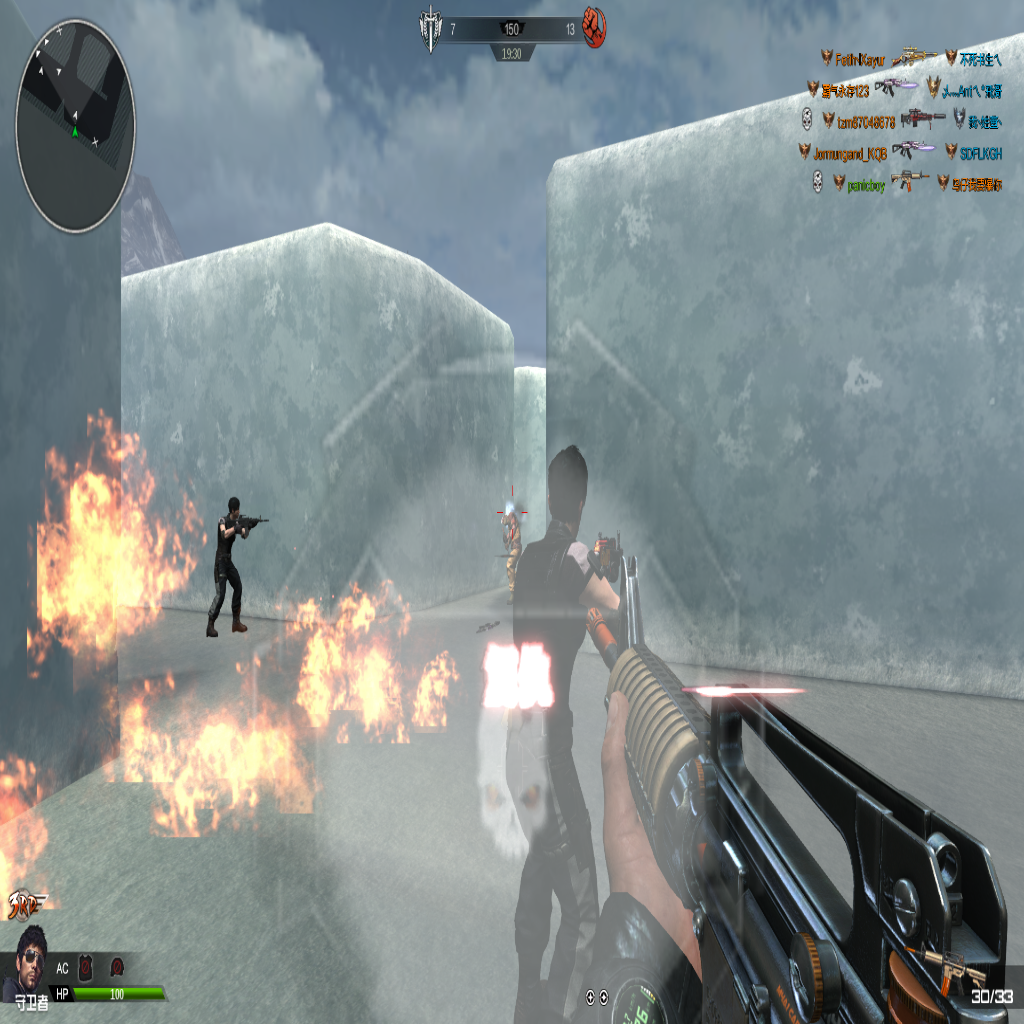ct: (206, 500, 265, 634)
tt: (499, 499, 522, 598)
